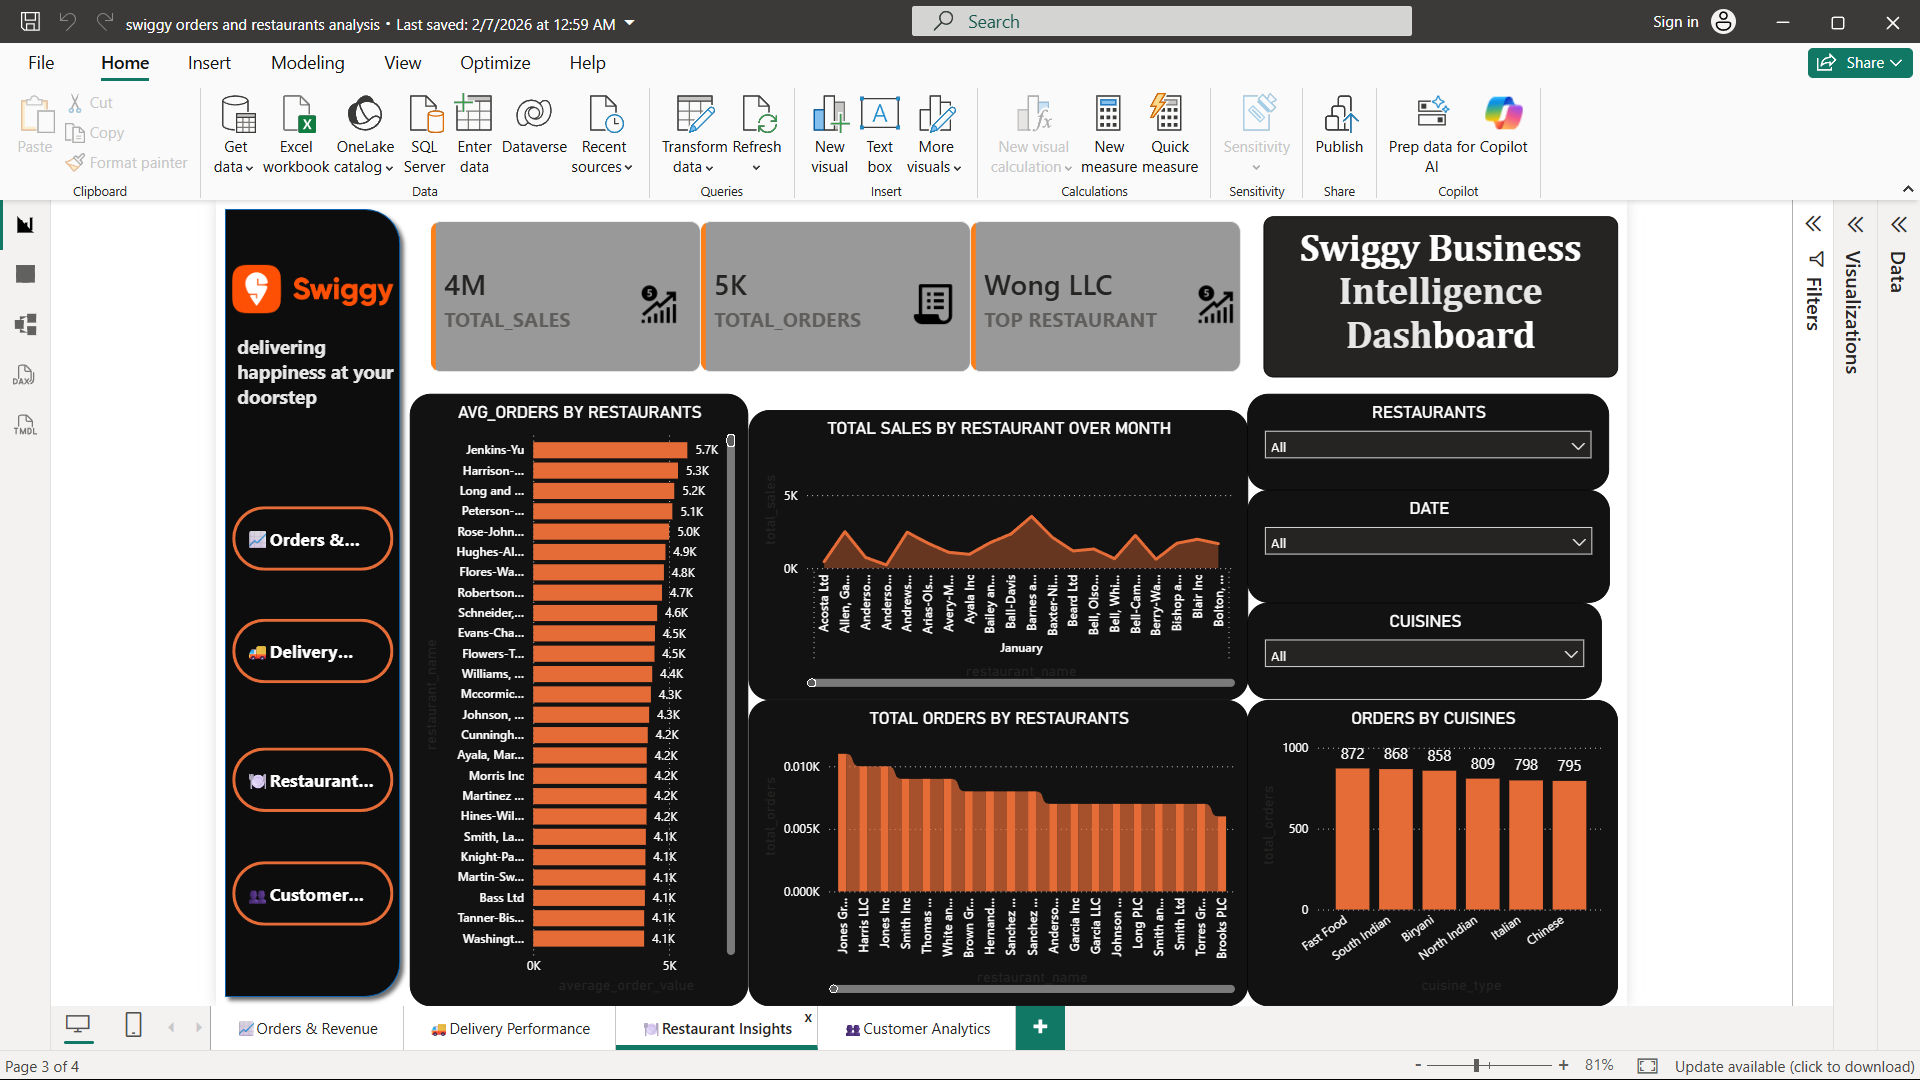

The dashboard page shown, as its layout file describes it:
{"tool":"powerbi","page":{"name":"🍽️Restaurant Insights","canvas":[1400,800],"ordinal":2},"visuals":[{"type":"shape","box":[0,0,192,800],"z":0},{"type":"image","box":[16,48,160,80],"z":1000},{"type":"textbox","box":[16,128,176,96],"z":2000},{"type":"cardVisual","fields":{"Data":["Table.total_sales","Table.total_orders","Table.top_earning_restaurant"]},"box":[192,0,848,192],"z":3000},{"type":"image","box":[400,80,80,48],"z":4000},{"type":"image","box":[960,80,64,48],"z":5000},{"type":"image","box":[672,80,80,48],"z":6000},{"type":"lineChart","title":"TOTAL SALES BY RESTAURANT OVER MONTH","fields":{"Y":["Table.total_sales"],"Category":["orders.order_date.Variation.Date Hierarchy.Month","restaurants.restaurant_name"]},"box":[528,208,496,288],"z":7000},{"type":"ribbonChart","title":"TOTAL ORDERS BY RESTAURANTS","fields":{"Category":["restaurants.restaurant_name"],"Y":["Table.total_orders"]},"box":[528,496,496,304],"z":8000},{"type":"clusteredBarChart","title":"AVG_ORDERS BY RESTAURANTS","fields":{"Category":["restaurants.restaurant_name"],"Y":["Table.average_order_value"]},"box":[192,192,336,608],"z":9000},{"type":"columnChart","title":"ORDERS BY CUISINES","fields":{"Category":["restaurants.cuisine_type"],"Y":["Table.total_orders"]},"box":[1024,496,368,304],"z":10000},{"type":"textbox","box":[1040,16,352,160],"z":11000},{"type":"actionButton","box":[16,304,160,64],"z":12000},{"type":"actionButton","box":[16,416,160,64],"z":13000},{"type":"actionButton","box":[16,544,160,64],"z":14000},{"type":"slicer","title":"RESTAURANTS","fields":{"Values":["restaurants.restaurant_name"]},"box":[1024,192,359,96],"z":15000},{"type":"slicer","title":"DATE","fields":{"Values":["orders.order_date"]},"box":[1024,288,360,112],"z":16000},{"type":"slicer","title":"CUISINES","fields":{"Values":["restaurants.cuisine_type"]},"box":[1024,400,352,96],"z":17000},{"type":"actionButton","box":[16,656,160,64],"z":17001}]}

Visuals, with their boxes on the page's 1400x800 design canvas (x1, y1, x2, y2). These are canvas units, not pixel positions in the 1920x1080 screenshot, which may show the page scaled, cropped or inside an application window:
shape: {"x1": 0, "y1": 0, "x2": 192, "y2": 800}
image: {"x1": 16, "y1": 48, "x2": 176, "y2": 128}
textbox: {"x1": 16, "y1": 128, "x2": 192, "y2": 224}
cardVisual - Table.total_sales x Table.total_orders: {"x1": 192, "y1": 0, "x2": 1040, "y2": 192}
image: {"x1": 400, "y1": 80, "x2": 480, "y2": 128}
image: {"x1": 960, "y1": 80, "x2": 1024, "y2": 128}
image: {"x1": 672, "y1": 80, "x2": 752, "y2": 128}
"TOTAL SALES BY RESTAURANT OVER MONTH" lineChart: {"x1": 528, "y1": 208, "x2": 1024, "y2": 496}
"TOTAL ORDERS BY RESTAURANTS" ribbonChart: {"x1": 528, "y1": 496, "x2": 1024, "y2": 800}
"AVG_ORDERS BY RESTAURANTS" clusteredBarChart: {"x1": 192, "y1": 192, "x2": 528, "y2": 800}
"ORDERS BY CUISINES" columnChart: {"x1": 1024, "y1": 496, "x2": 1392, "y2": 800}
textbox: {"x1": 1040, "y1": 16, "x2": 1392, "y2": 176}
actionButton: {"x1": 16, "y1": 304, "x2": 176, "y2": 368}
actionButton: {"x1": 16, "y1": 416, "x2": 176, "y2": 480}
actionButton: {"x1": 16, "y1": 544, "x2": 176, "y2": 608}
"RESTAURANTS" slicer: {"x1": 1024, "y1": 192, "x2": 1383, "y2": 288}
"DATE" slicer: {"x1": 1024, "y1": 288, "x2": 1384, "y2": 400}
"CUISINES" slicer: {"x1": 1024, "y1": 400, "x2": 1376, "y2": 496}
actionButton: {"x1": 16, "y1": 656, "x2": 176, "y2": 720}
